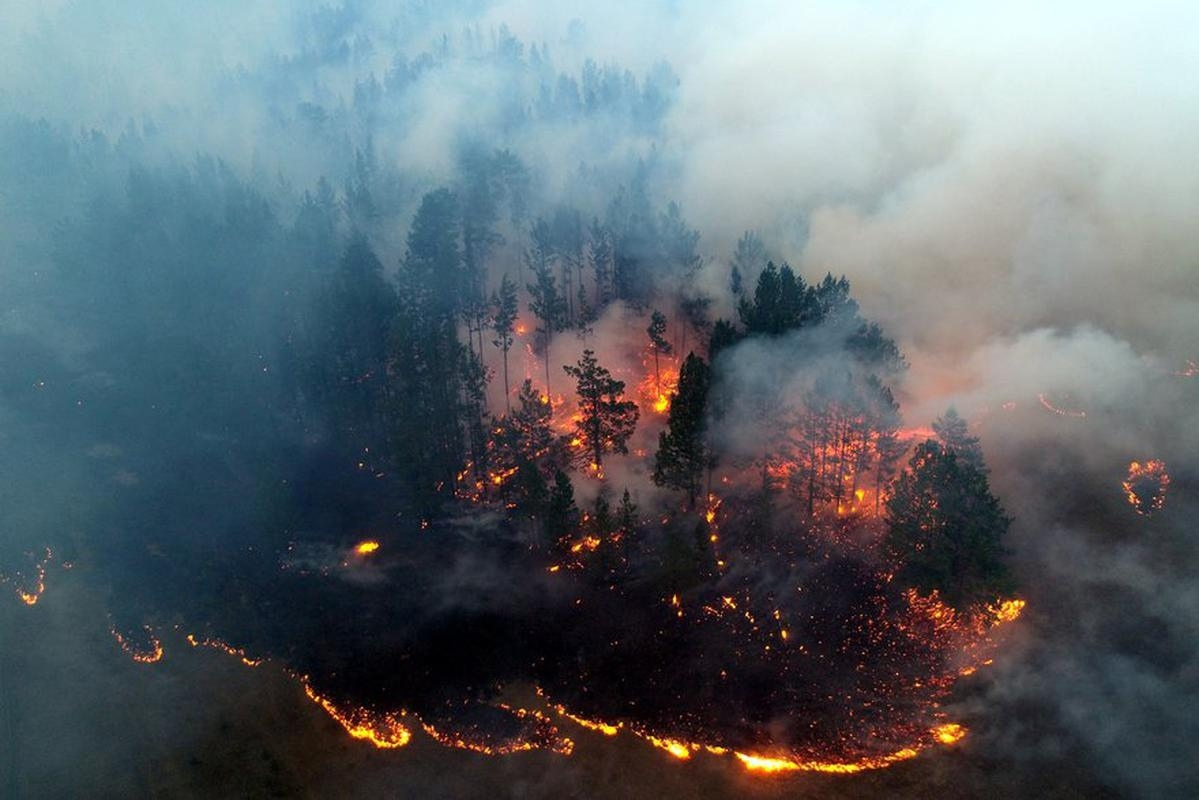fire: (101, 609, 587, 763), (445, 320, 717, 504), (554, 672, 985, 779), (740, 422, 952, 537), (890, 576, 1032, 642), (1, 531, 83, 609), (1119, 459, 1175, 519)
